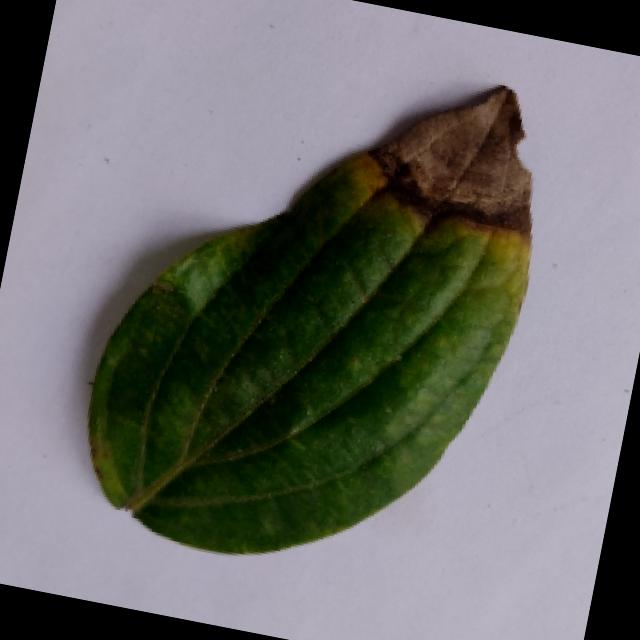footrot: (38, 9, 595, 604)
